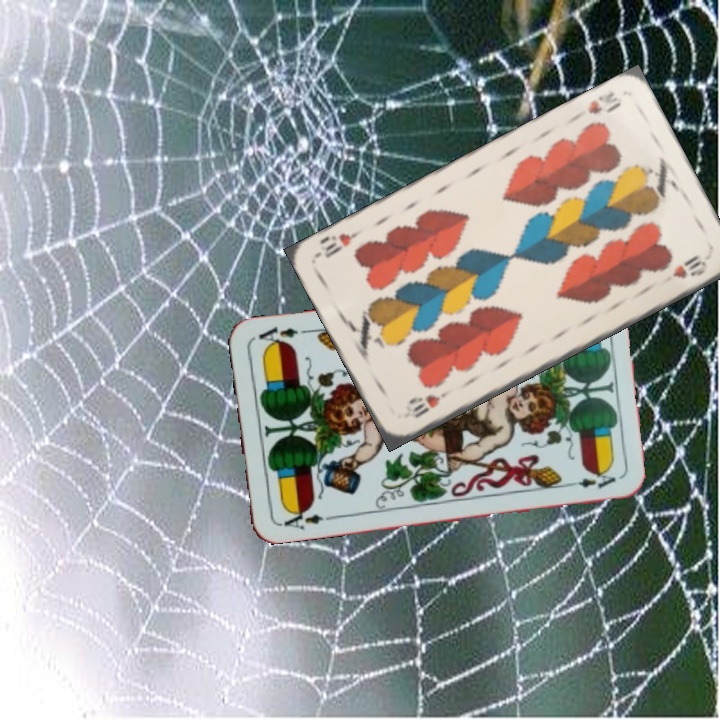EA: (275, 504, 326, 532)
H10: (409, 386, 453, 421), (584, 87, 625, 117)
